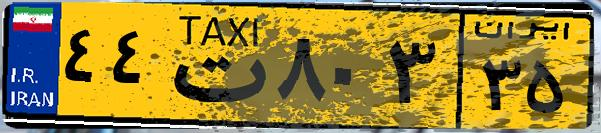0: (330, 28, 385, 110)
3: (385, 28, 445, 110), (475, 38, 525, 113)
4: (57, 26, 110, 100), (110, 28, 158, 98)
5: (525, 38, 570, 115)
8: (270, 28, 330, 110)
ت: (158, 12, 270, 120)
